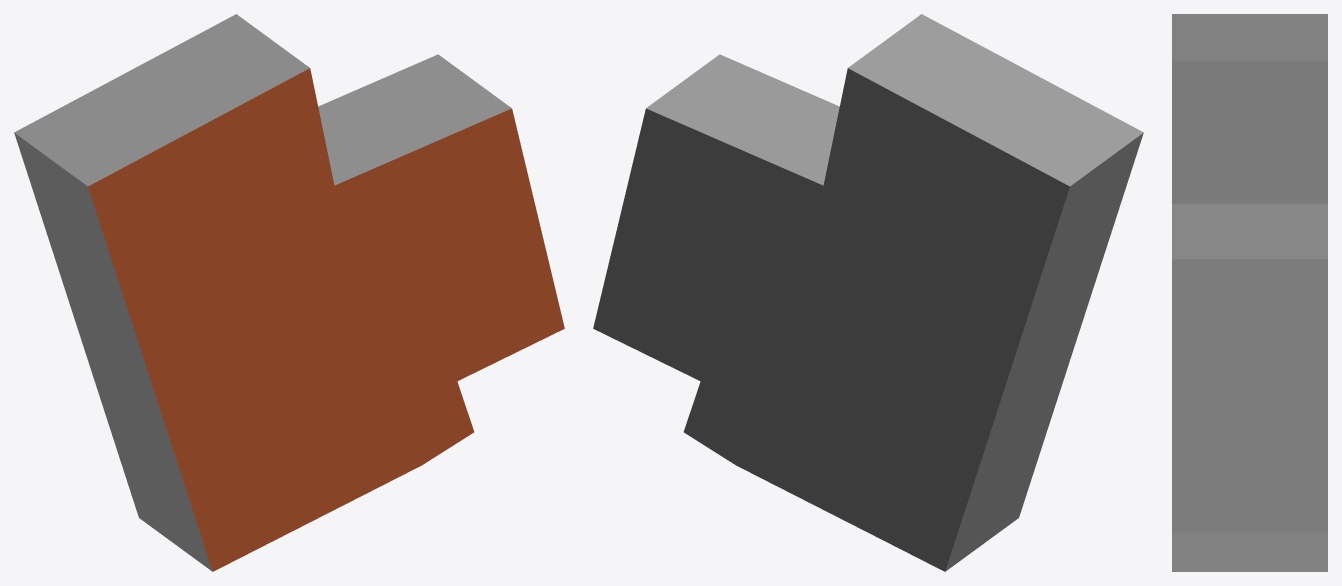
Rendered from construction_6467_assumed_A_Casa_h6m.obj.
3 renders of one model, left to right at view 1: azimuth 30°, elevation 25°; view 2: azimuth 150°, elevation 25°; view 3: azimuth 270°, elevation 25°, orthographic. The views are drawn at different scales.
Parts seen in each view (by area): view 1: construction_6467_assumed_A_Casa; view 2: construction_6467_assumed_A_Casa; view 3: construction_6467_assumed_A_Casa.
Part boxes in pixels (x1,y1,x2,y2): construction_6467_assumed_A_Casa: [14, 14, 564, 571]; construction_6467_assumed_A_Casa: [593, 14, 1143, 571]; construction_6467_assumed_A_Casa: [1172, 14, 1327, 571].
Size of the model in its own units: 22.36 by 21.51 by 6.
